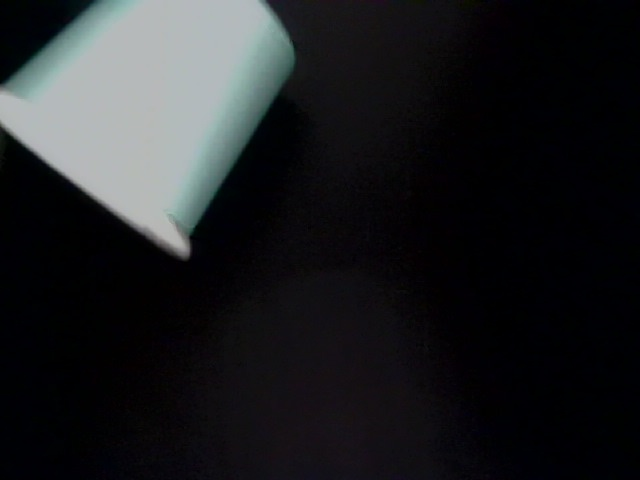KHSLJ: (170, 225, 640, 479)
